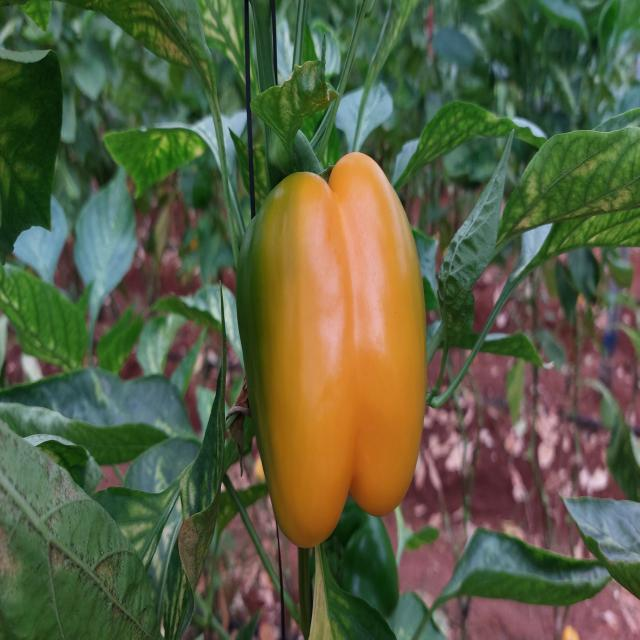GreenishYellow--Can-be-Harvested: (231, 160, 475, 614)
